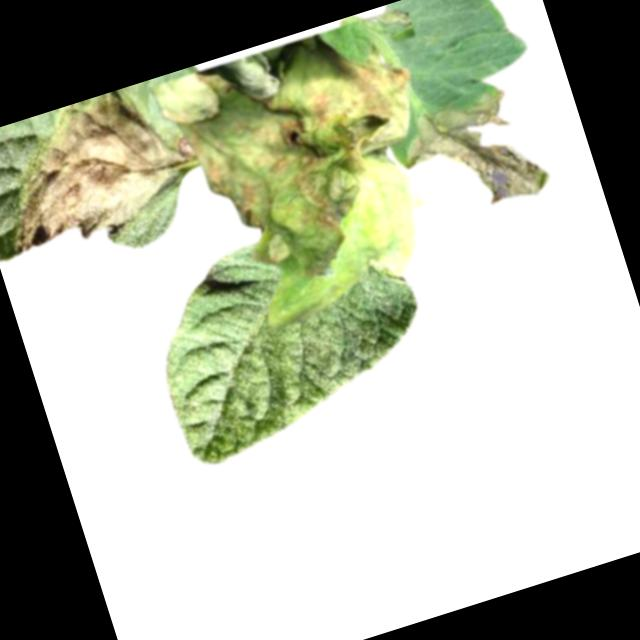Late_blight: (148, 4, 476, 310), (1, 80, 190, 265), (394, 81, 558, 234)
